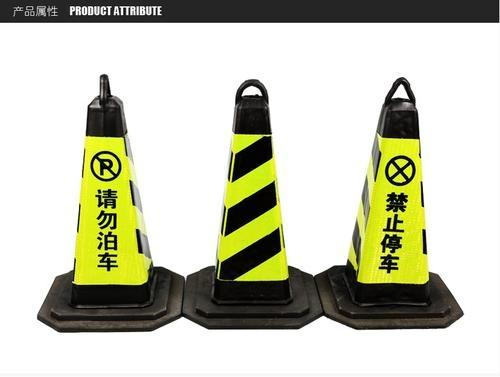cone_barrel: (55, 79, 166, 311), (333, 83, 445, 308), (195, 86, 308, 305)
